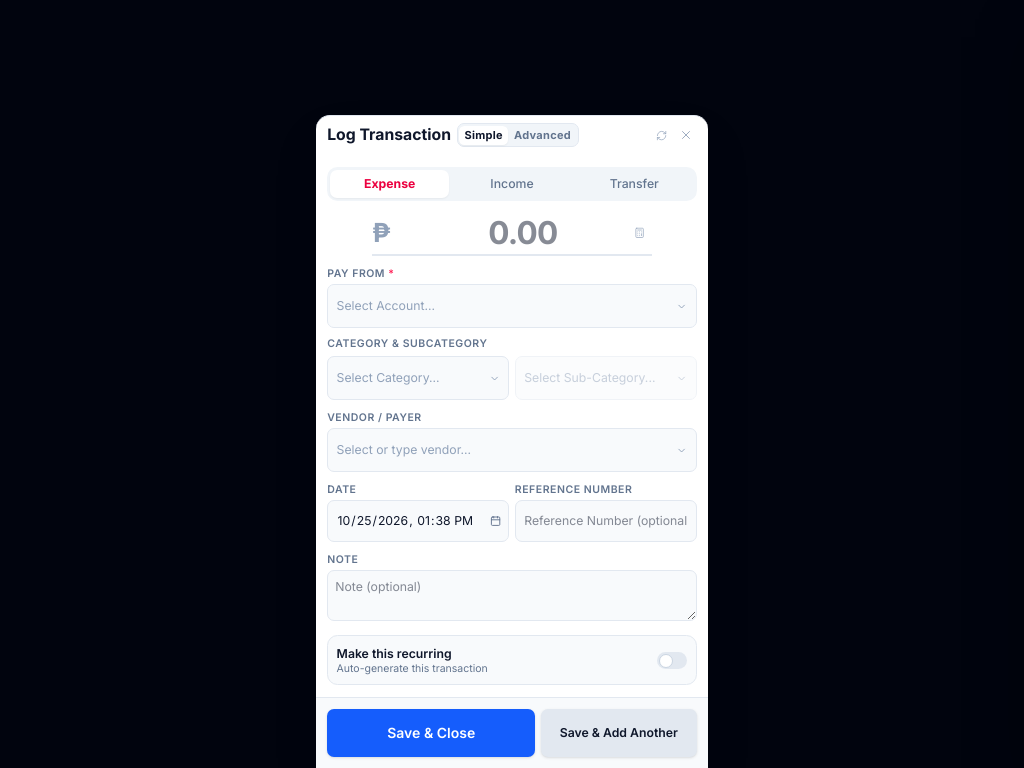
Test case: AddTransactionModal › Vendor Handling › allows adding and removing string references (lookups) directly under vendor
The width and height of the screenshot is (1024, 768).
// Enter vendor and select from dropdown
Click the field with placeholder "Select or type vendor...".
click(504, 450)  # box [337, 442, 671, 459]
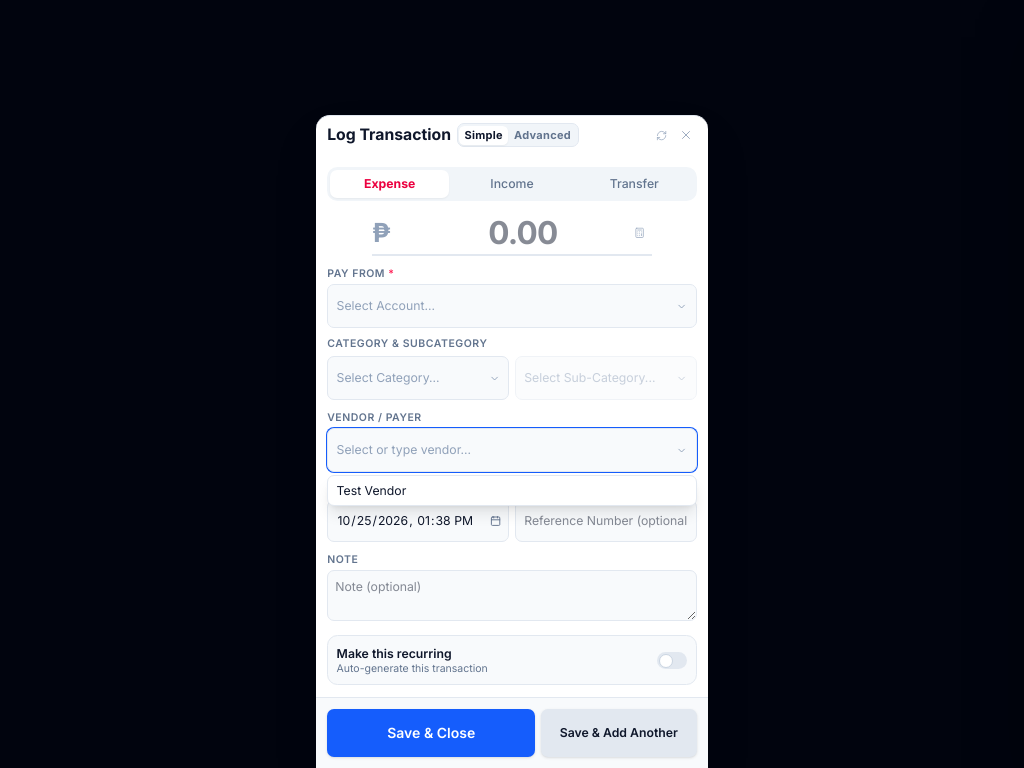
Click the button "Test Vendor".
click(371, 490)  # box [328, 476, 696, 505]
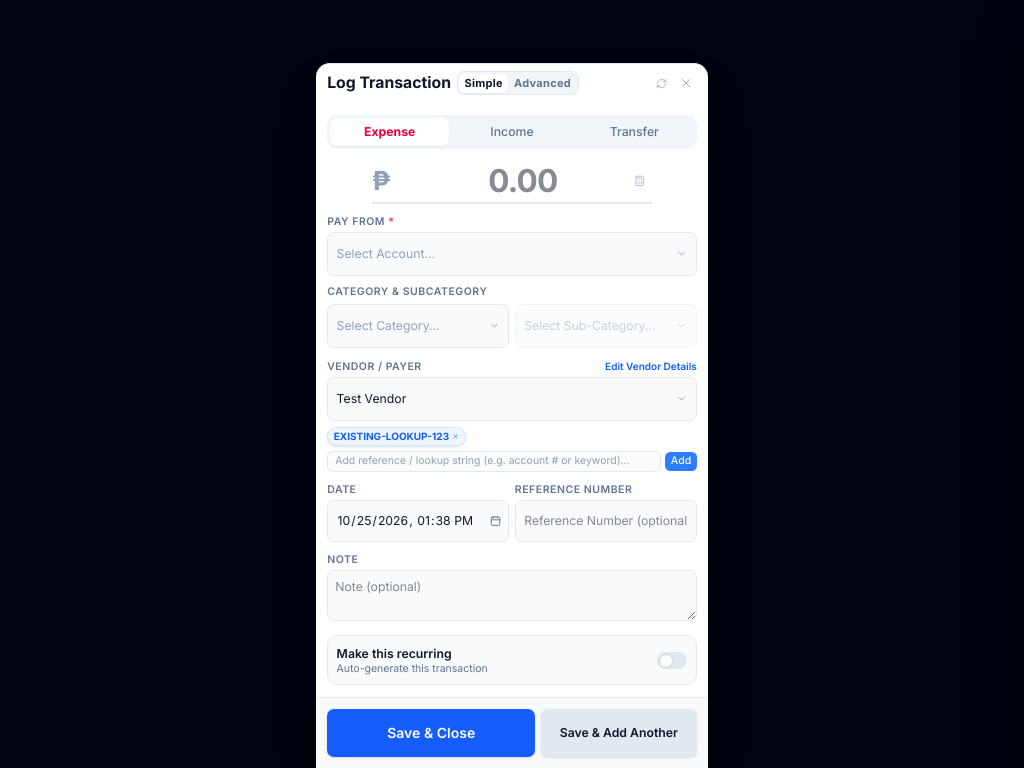
Check: the text "EXISTING-LOOKUP-123" is shown, box [327, 427, 466, 446]
Check: the field with placeholder "Add reference / lookup string" is shown
// Add a custom lookup
Type "STORE-1234" into the field with placeholder "Add reference / lookup string".
click(494, 461); type("STORE-1234")  # box [327, 451, 661, 472]
Press Enter in the field with placeholder "Add reference / lookup string" below "EXISTING-LOOKUP-123", box [327, 451, 661, 472]
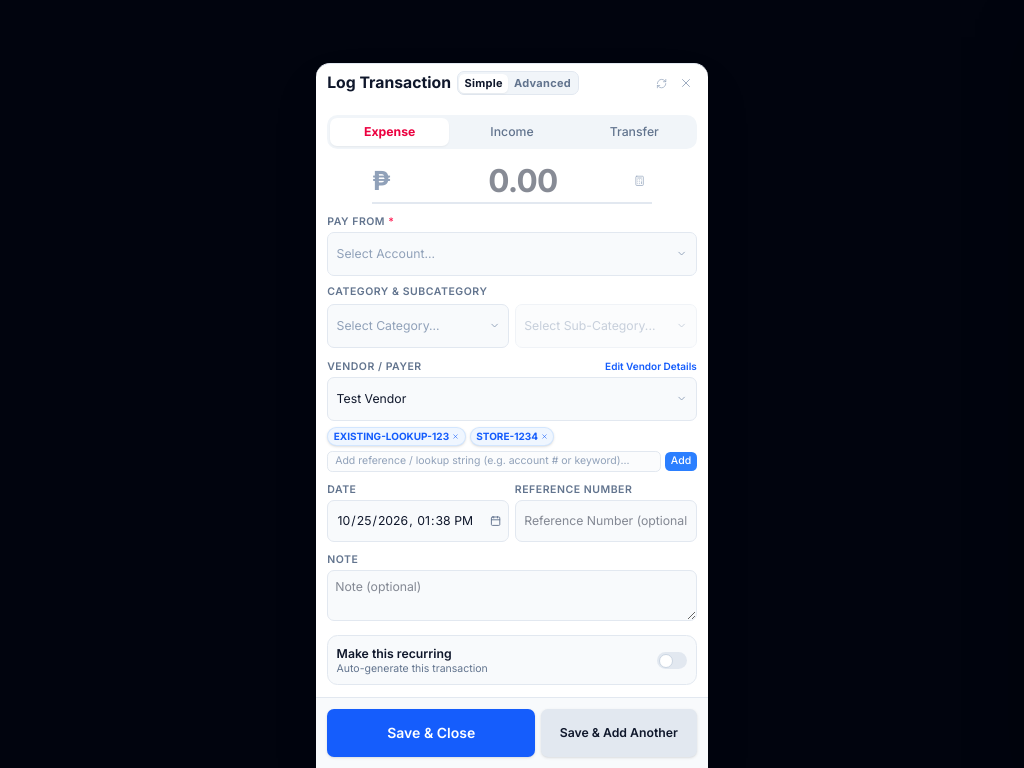
Check: the text "STORE-1234" is shown, box [470, 427, 554, 446]
// Add another lookup
Type "PAYMAYA-REF-99" into the field with placeholder "Add reference / lookup string".
click(494, 461); type("PAYMAYA-REF-99")  # box [327, 451, 661, 472]
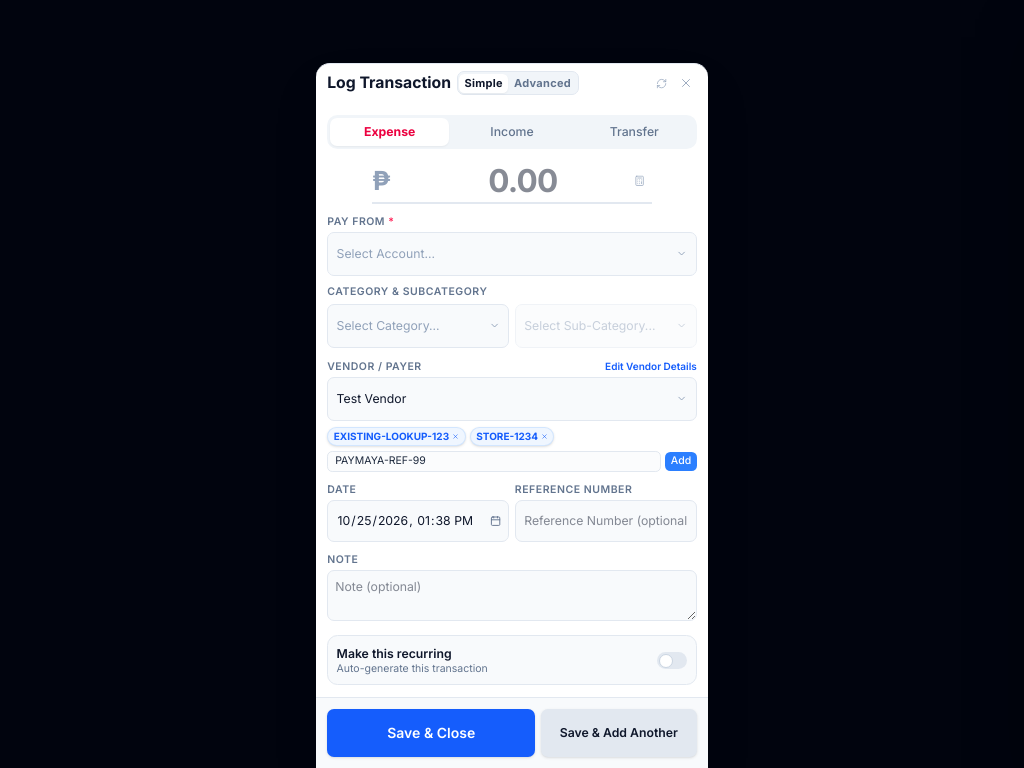
Press Enter in the field with placeholder "Add reference / lookup string" below "EXISTING-LOOKUP-123", box [327, 451, 661, 472]
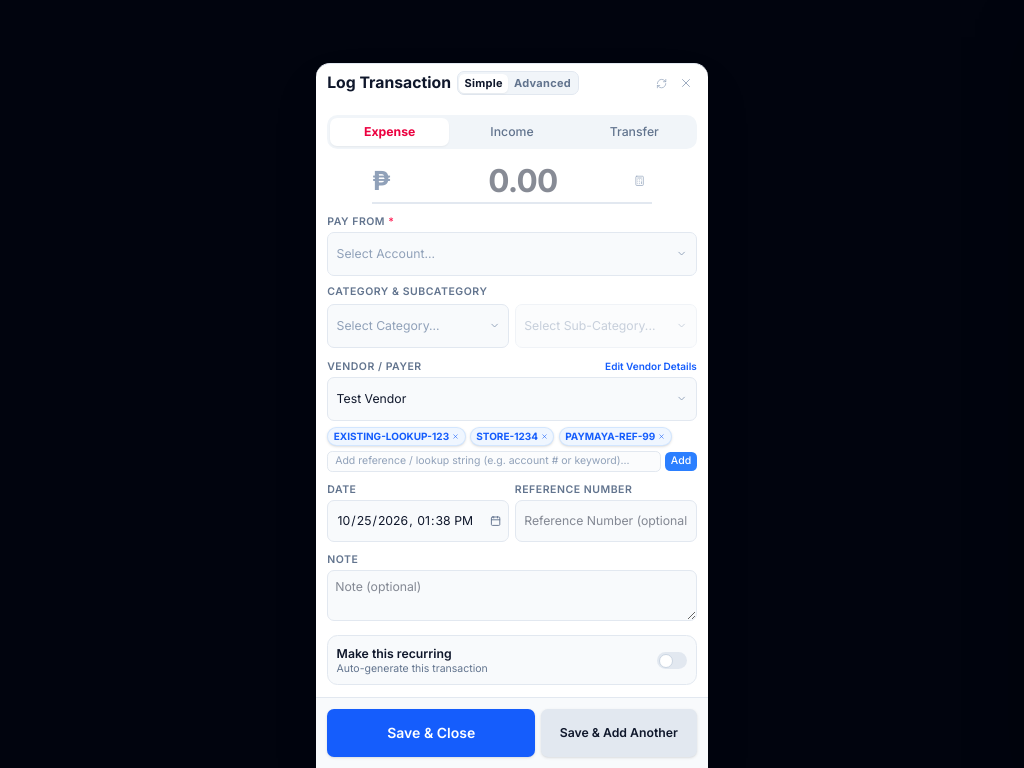
Check: the text "PAYMAYA-REF-99" is shown, box [559, 427, 672, 446]
// Click to remove first lookup
Click the text "STORE-1234".
click(512, 436)  # box [470, 427, 554, 446]
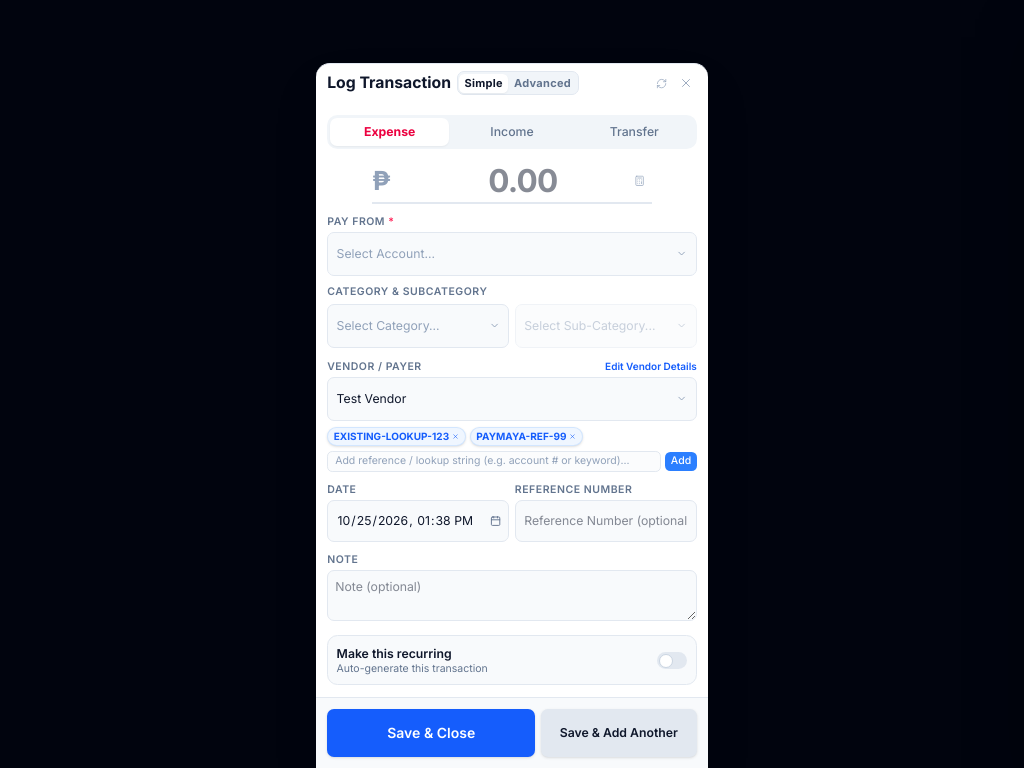
Check: the text "EXISTING-LOOKUP-123" is shown, box [327, 427, 466, 446]
Check: the text "STORE-1234" is gone
Check: the text "PAYMAYA-REF-99" is shown, box [470, 427, 583, 446]
